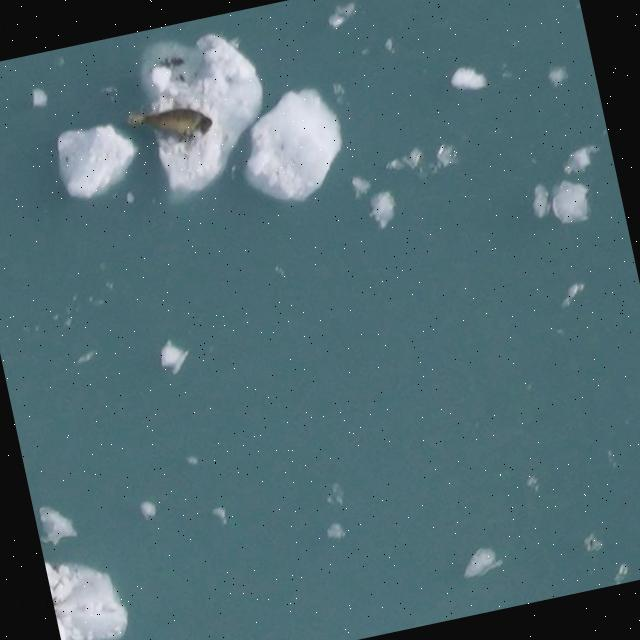seal: (125, 89, 215, 152)
